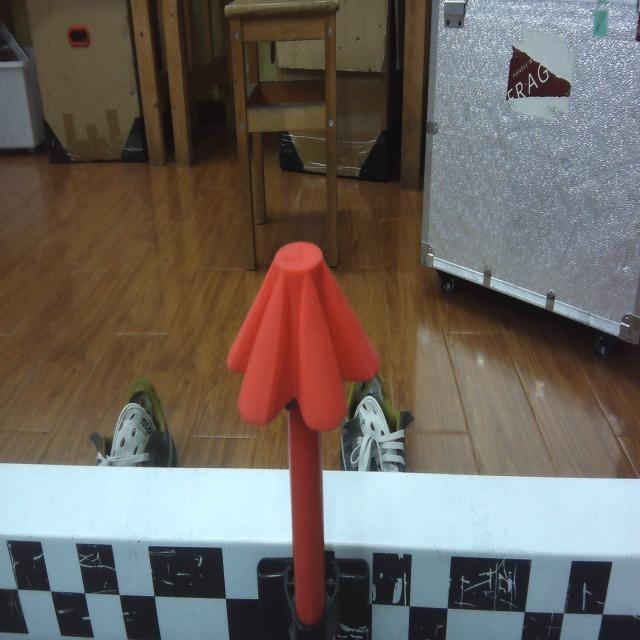zred-Stake-Head: (227, 242, 380, 430)
